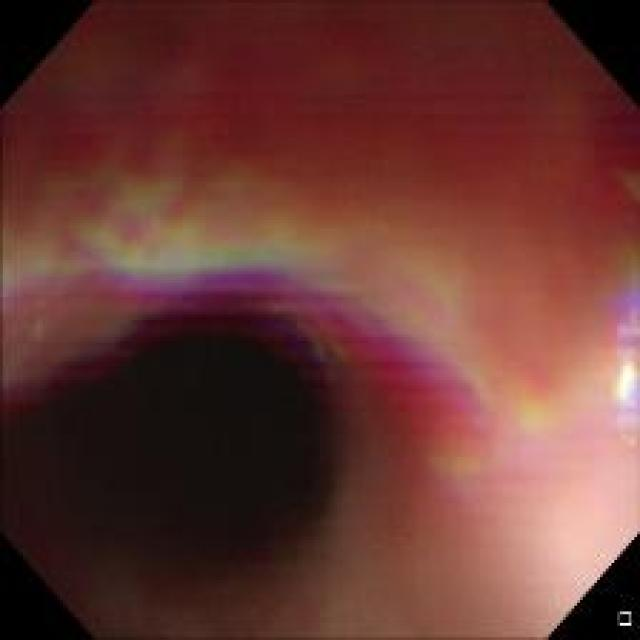blur: (1, 2, 636, 634)
color misalignment: (6, 185, 638, 454)
contrast: (21, 276, 358, 586)
